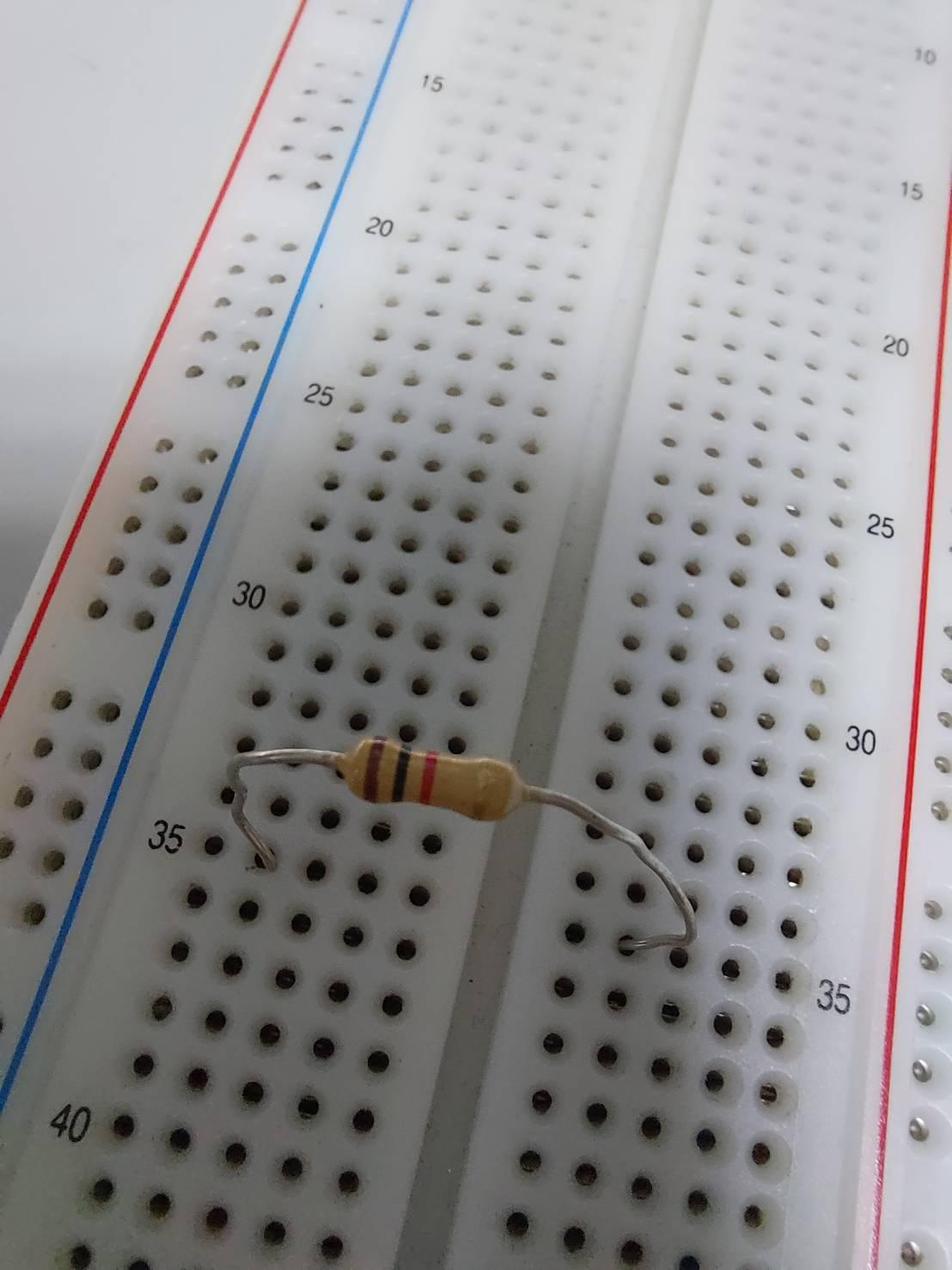resistor: (342, 733, 527, 824)
